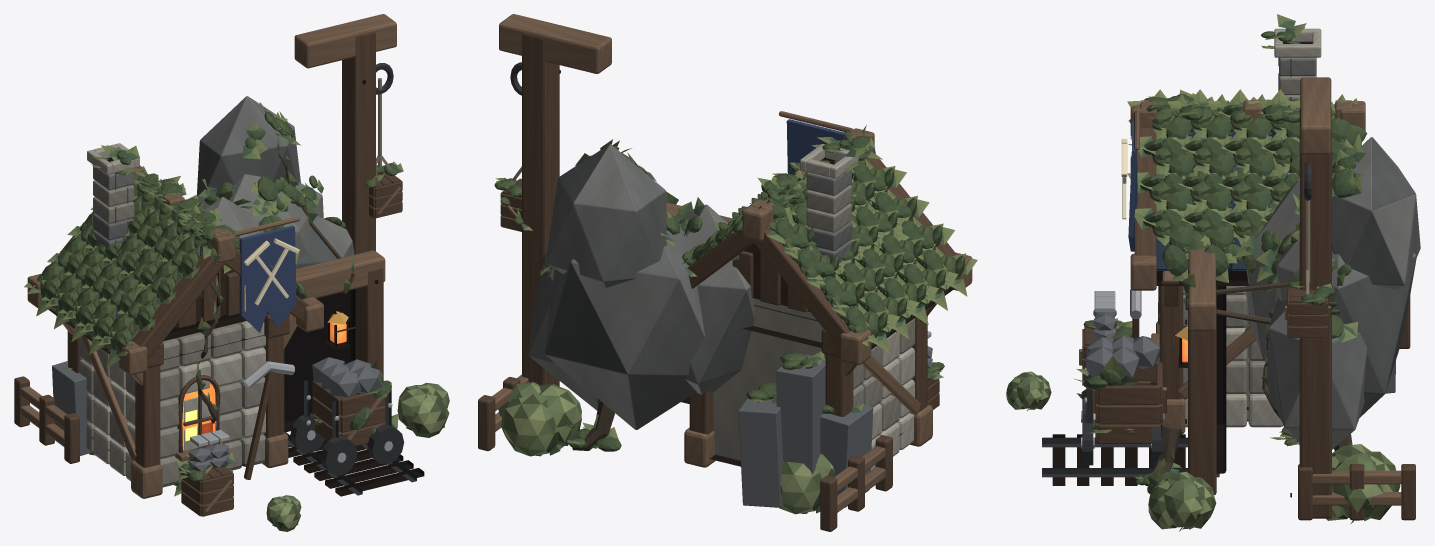
File: metal_mine.glb
The picture shows the model from 3 angles, left to right: view 1: azimuth 30°, elevation 25°; view 2: azimuth 150°, elevation 25°; view 3: azimuth 270°, elevation 25°; orthographic projection. The views are drawn at different scales.
Parts seen in each view (by area): view 1: Ore hoist upright, Angular mine outcrop.003, Cloth heraldic banner, Mine tunnel darkness, Ore hoist arm, Carved roof verge, Mine lintel, Mine entrance timber.001, Corner upright, Angular mine outcrop.001, Woodland railside ore stack, Angular mine outcrop.002 (+48 smaller); view 2: Angular mine outcrop.001, Angular mine outcrop.003, Ore hoist upright, Angular mine outcrop, Cottage walls, Woodland railside ore stack.002, Woodland railside ore stack.001, Ore hoist arm, Leaf cluster.011, Woodland railside ore stack, Carved roof verge.001, Angular mine outcrop.002 (+26 smaller); view 3: Ore hoist upright, Angular mine outcrop.003, Angular mine outcrop.001, Angular mine outcrop.002, Mine entrance timber.001, Angular mine outcrop, Ore hoist arm, Mine lintel, Corner upright.002, Mine tunnel darkness, Carved roof verge.002, Leaf cluster.009 (+37 smaller).
Part boxes in pixels (bbox=[...]): Ore hoist upright: bbox=[342, 31, 375, 254]; Angular mine outcrop.003: bbox=[197, 96, 300, 195]; Cloth heraldic banner: bbox=[239, 225, 296, 332]; Mine tunnel darkness: bbox=[284, 289, 355, 432]; Ore hoist arm: bbox=[294, 14, 396, 68]; Carved roof verge: bbox=[132, 252, 225, 359]; Mine lintel: bbox=[296, 250, 385, 298]; Mine entrance timber.001: bbox=[355, 267, 383, 380]; Corner upright: bbox=[135, 365, 160, 467]; Angular mine outcrop.001: bbox=[197, 174, 323, 259]; Woodland railside ore stack: bbox=[52, 361, 91, 455]; Angular mine outcrop.002: bbox=[296, 216, 354, 268]; Angular mine outcrop.001: bbox=[545, 213, 704, 429]; Angular mine outcrop.003: bbox=[545, 144, 666, 287]; Ore hoist upright: bbox=[522, 33, 559, 386]; Angular mine outcrop: bbox=[685, 204, 754, 396]; Cottage walls: bbox=[713, 298, 825, 460]; Woodland railside ore stack.002: bbox=[738, 398, 783, 507]; Woodland railside ore stack.001: bbox=[776, 352, 825, 473]; Ore hoist arm: bbox=[499, 14, 611, 73]; Leaf cluster.011: bbox=[501, 394, 558, 456]; Woodland railside ore stack: bbox=[820, 403, 873, 507]; Carved roof verge.001: bbox=[753, 227, 850, 348]; Angular mine outcrop.002: bbox=[528, 266, 599, 410]; Ore hoist upright: bbox=[1299, 108, 1331, 518]; Angular mine outcrop.003: bbox=[1332, 137, 1420, 289]; Angular mine outcrop.001: bbox=[1275, 240, 1416, 417]; Angular mine outcrop.002: bbox=[1267, 298, 1366, 449]; Mine entrance timber.001: bbox=[1188, 305, 1216, 494]; Angular mine outcrop: bbox=[1246, 180, 1299, 360]; Ore hoist arm: bbox=[1300, 77, 1331, 154]; Mine lintel: bbox=[1188, 243, 1215, 330]; Corner upright.002: bbox=[1159, 243, 1183, 399]; Mine tunnel darkness: bbox=[1216, 286, 1226, 473]; Carved roof verge.002: bbox=[1134, 128, 1156, 256]; Leaf cluster.009: bbox=[1332, 453, 1383, 517].
Size of the model in its own units: 4.36 by 4.26 by 3.8.
Materials: 43 (33 with a texture image).
